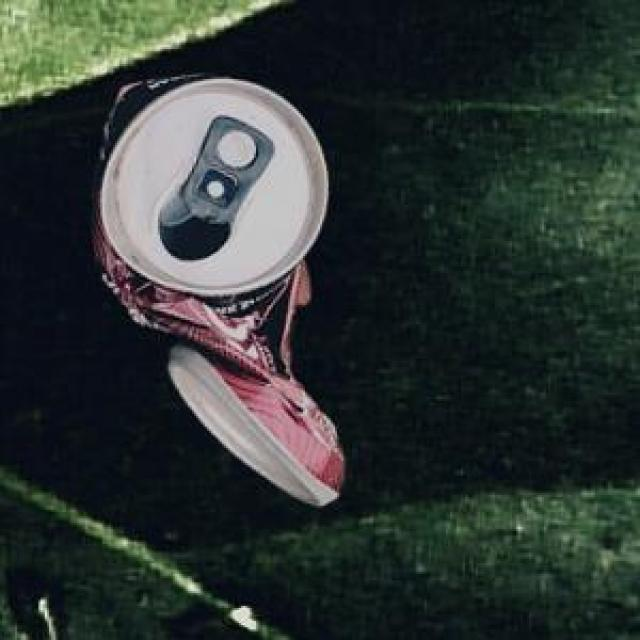logam: (89, 71, 340, 502)
